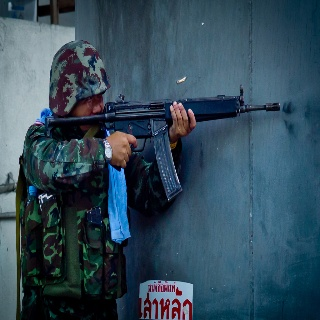rifle: (44, 85, 285, 202)
